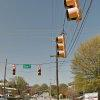Traffic light: (49, 0, 90, 68)
